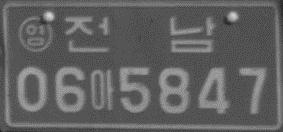0: (16, 65, 48, 113)
4: (198, 67, 230, 113)
5: (118, 66, 151, 113)
6: (53, 66, 86, 113)
7: (237, 65, 269, 115)
8: (157, 66, 190, 114)
아: (89, 68, 115, 112)
영: (16, 14, 54, 53)
전남_D: (63, 14, 216, 54)
